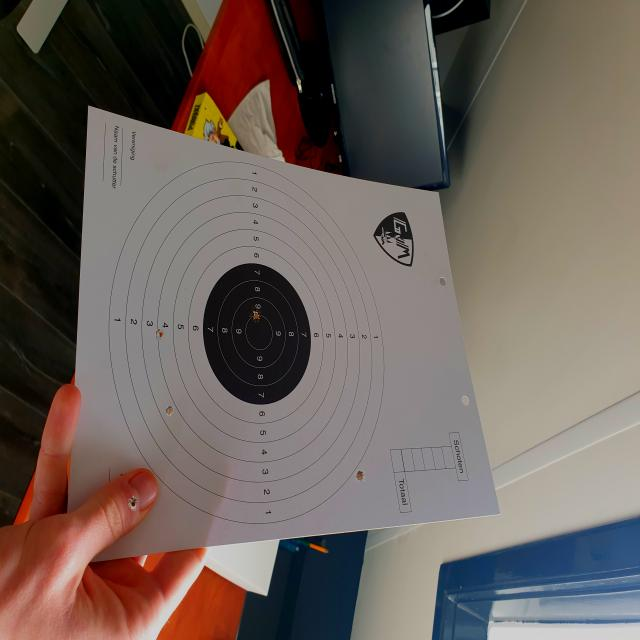0: (354, 469, 366, 484)
10: (249, 306, 262, 322)
3: (166, 406, 174, 418)
4: (156, 329, 164, 340)
Target: (108, 162, 385, 525)
black_contour: (203, 264, 311, 404)
